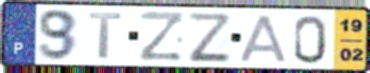0: (292, 13, 330, 65)
9: (36, 7, 81, 62)
A: (238, 13, 289, 64)
T: (87, 11, 124, 61)
Z: (185, 11, 233, 64), (138, 10, 186, 63)
